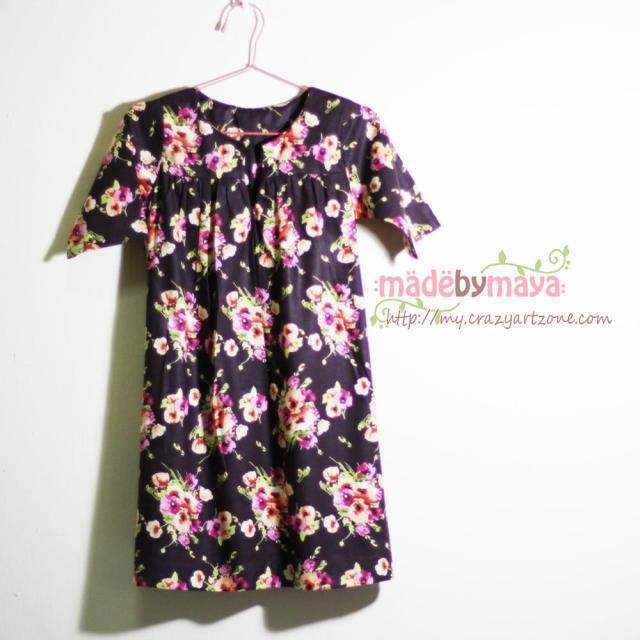Dress: (62, 81, 442, 599)
